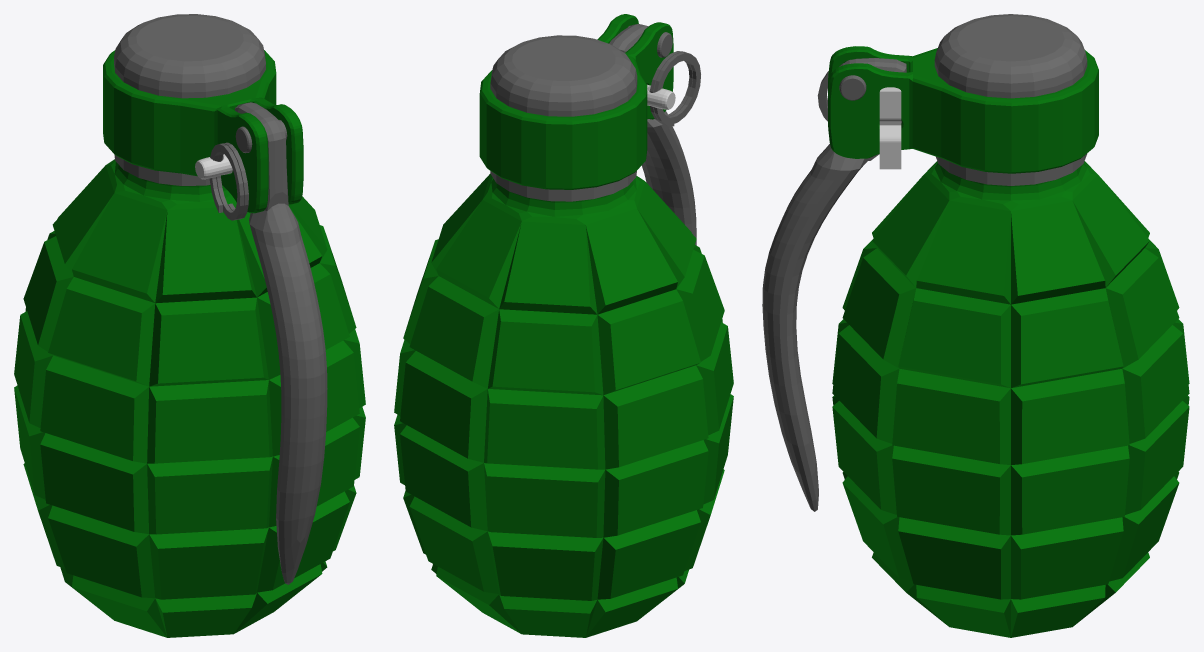
File: Grenade Model.fbx
The picture shows the model from 3 angles, left to right: view 1: azimuth 30°, elevation 25°; view 2: azimuth 150°, elevation 25°; view 3: azimuth 270°, elevation 25°; orthographic projection. The views are drawn at different scales.
Parts seen in each view (by area): view 1: Body, Head, Safety Lever, Pull Ring, Safety Pin; view 2: Body, Head, Safety Lever, Pull Ring, Safety Pin; view 3: Body, Head, Safety Lever, Safety Pin.
Part boxes in pixels (x1=…): Body: x1=14, y1=159, x2=365, y2=637; Head: x1=103, y1=14, x2=303, y2=213; Safety Lever: x1=235, y1=102, x2=327, y2=584; Pull Ring: x1=209, y1=142, x2=248, y2=220; Safety Pin: x1=195, y1=154, x2=232, y2=179; Body: x1=394, y1=174, x2=733, y2=637; Head: x1=479, y1=14, x2=673, y2=201; Safety Lever: x1=609, y1=24, x2=696, y2=245; Pull Ring: x1=649, y1=51, x2=700, y2=126; Safety Pin: x1=647, y1=84, x2=675, y2=109; Body: x1=832, y1=161, x2=1189, y2=637; Head: x1=828, y1=14, x2=1098, y2=185; Safety Lever: x1=762, y1=58, x2=906, y2=511; Safety Pin: x1=879, y1=87, x2=901, y2=169.
Size of the model in its own units: 0.1383 by 0.1651 by 0.2399.
